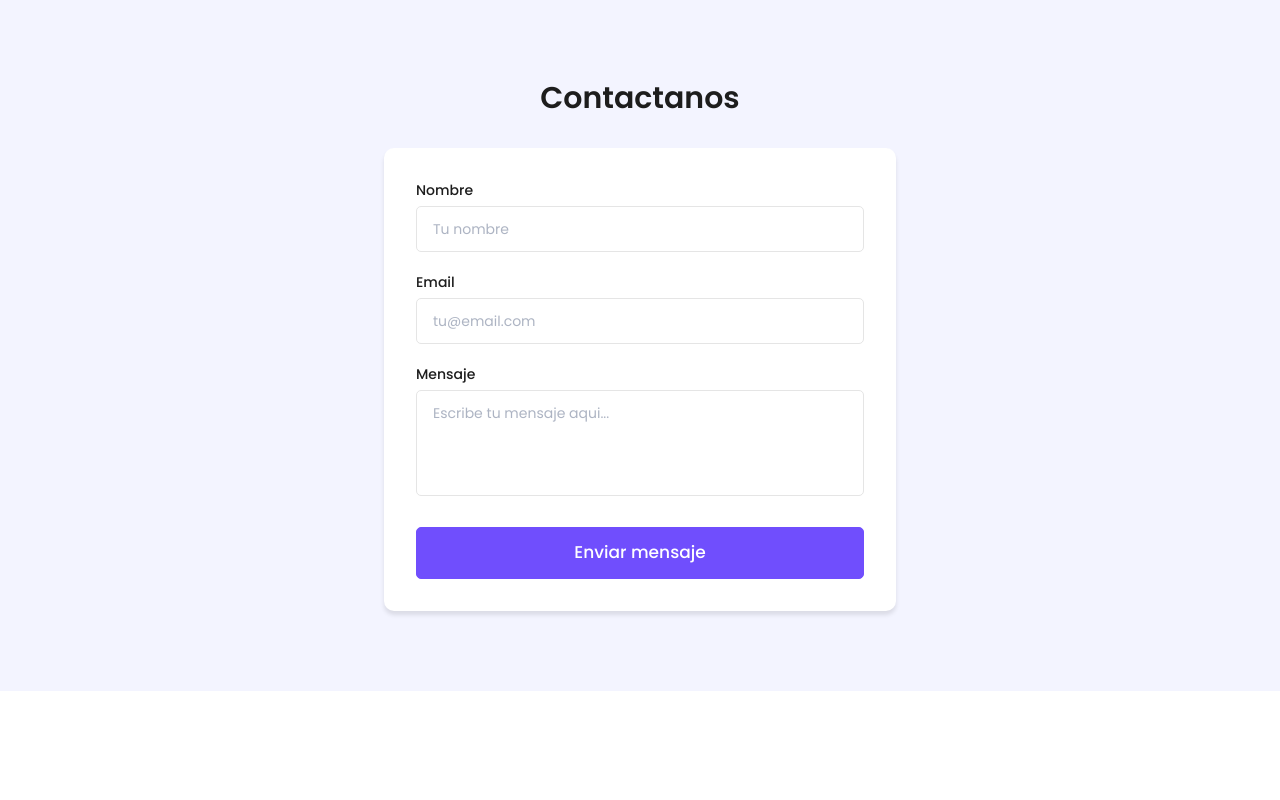
Test: ContactForm › shows error for short message
The width and height of the screenshot is (1280, 800).
In the field labelled "Nombre": [640, 229] box [416,206,864,252], type "Test"
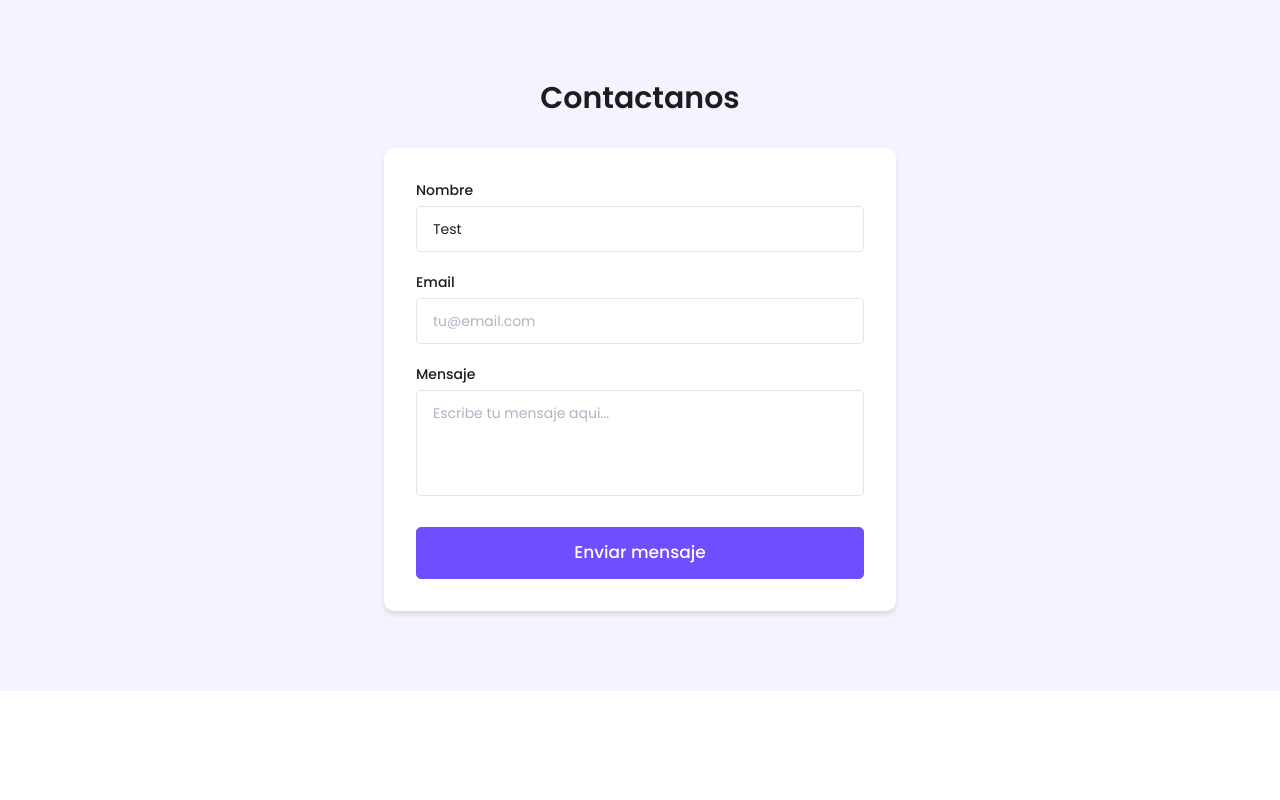
In the field labelled "Email": [640, 321] box [416,298,864,344], type "test@test.com"
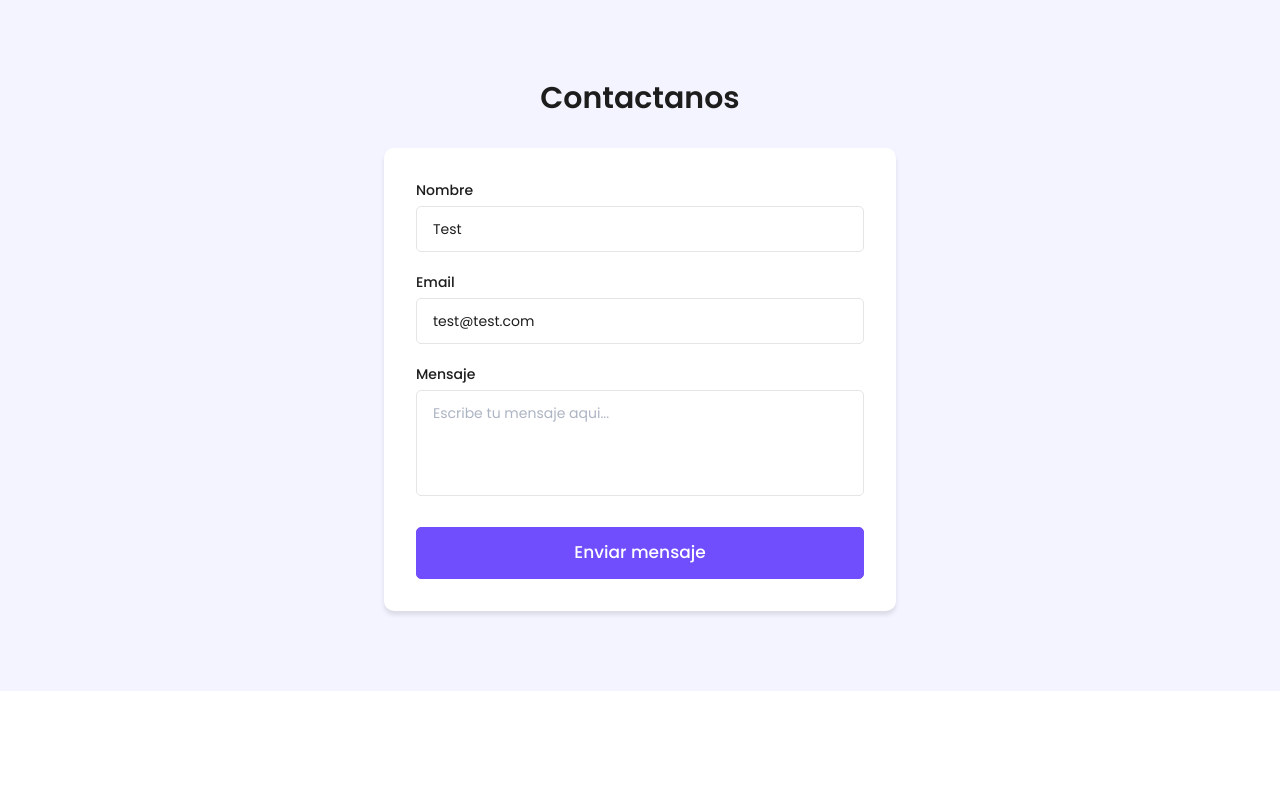
In the text box labelled "Mensaje": [640, 443] box [416,390,864,496], type "short"
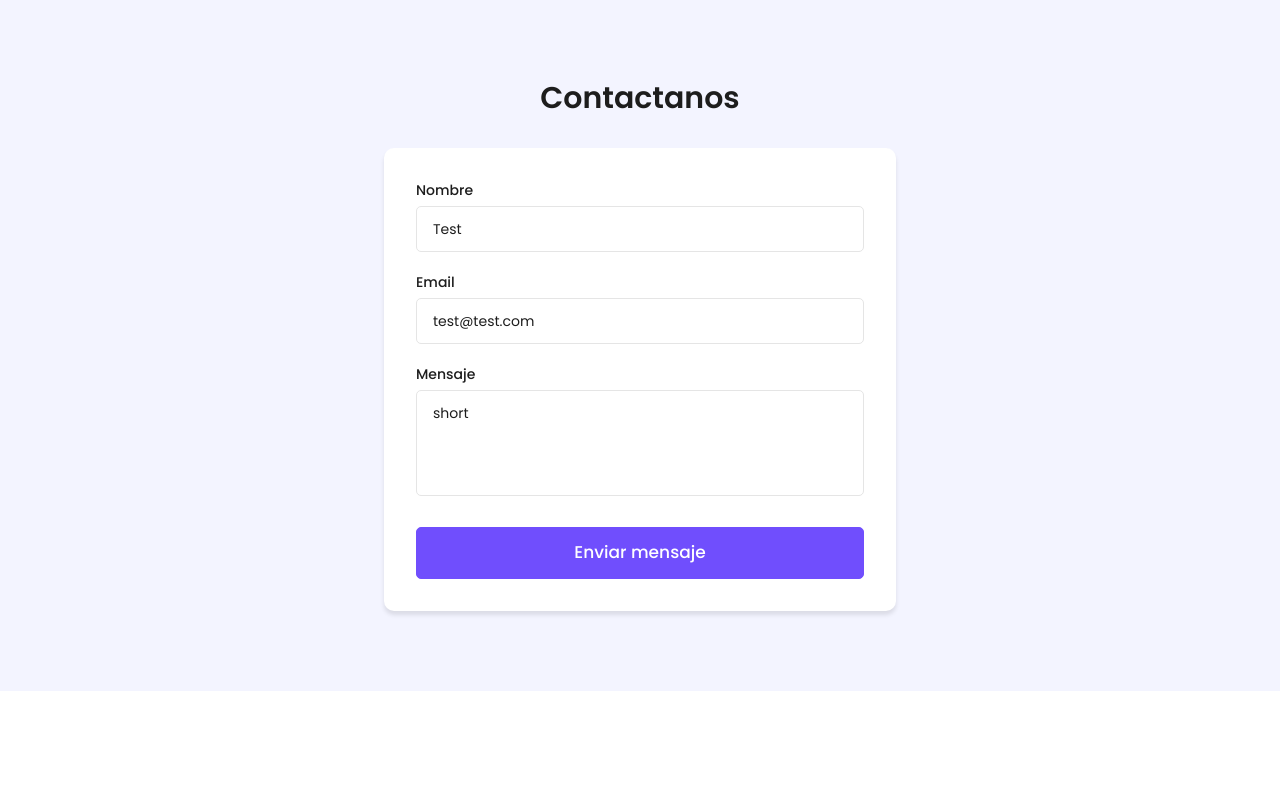
Click the button "Enviar mensaje": [640, 553] box [416,527,864,578]
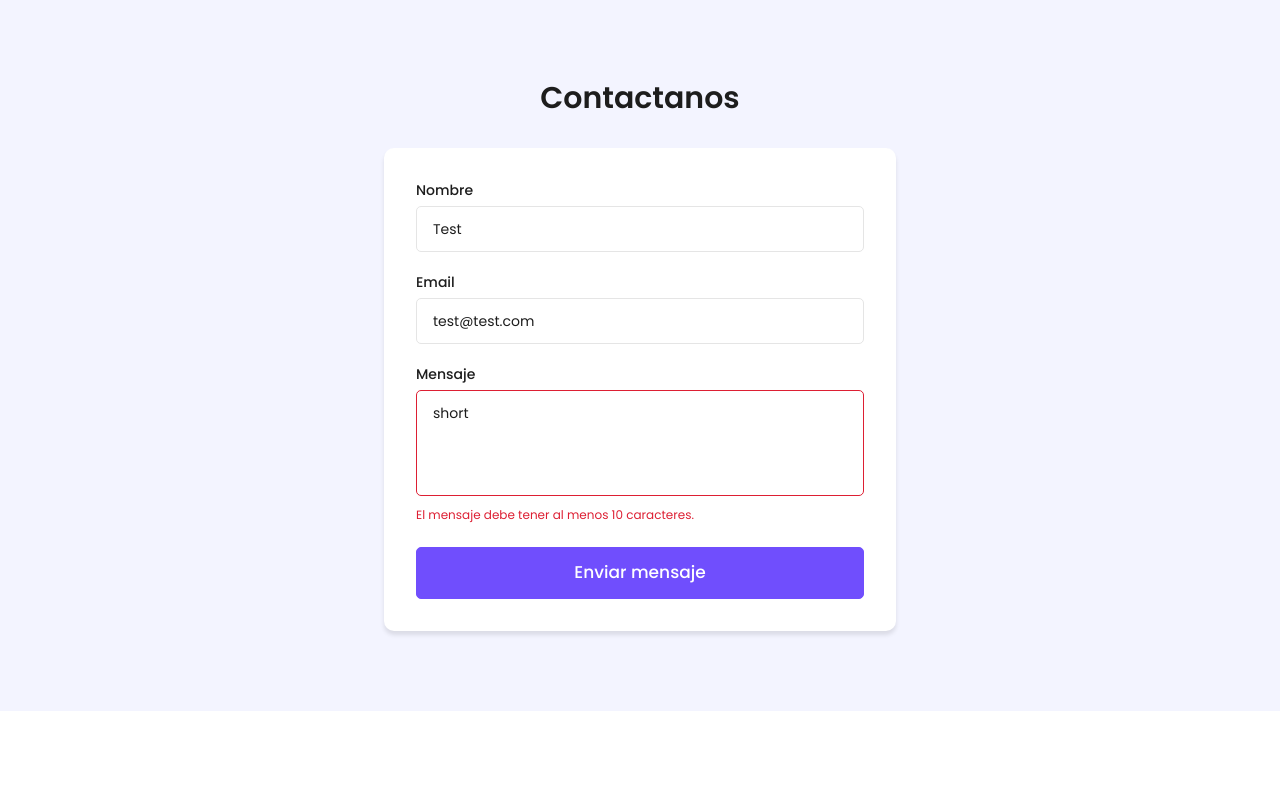
Result: the text "El mensaje debe tener al menos 10 caracteres." is shown at [416,506,694,523]
